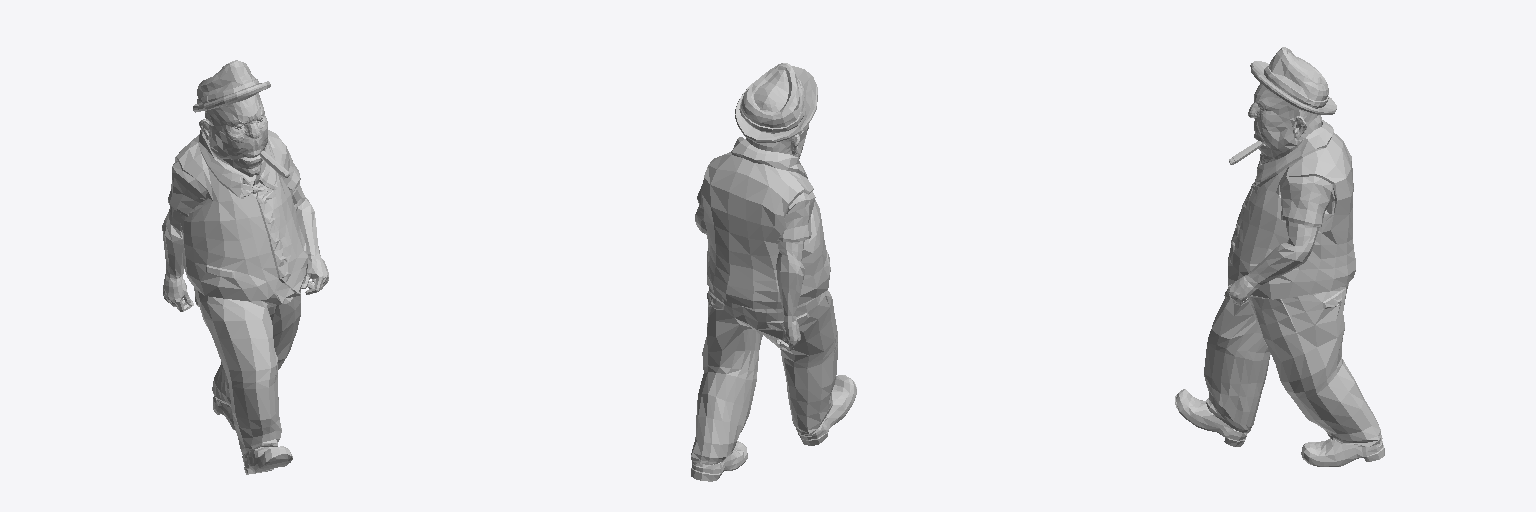
Rendered from walk0021.obj.
3 views of the same model, side by side, from view 1: azimuth 30°, elevation 25°; view 2: azimuth 150°, elevation 25°; view 3: azimuth 270°, elevation 25° (orthographic).
Visible parts, largest first — view 1: mixamorig:Jacket_Geo, mixamorig:Pants_Geo, mixamorig:Head_Geo, mixamorig:Arms_Geo, mixamorig:Hat_Geo, mixamorig:Shoes_Geo; view 2: mixamorig:Jacket_Geo, mixamorig:Pants_Geo, mixamorig:Hat_Geo, mixamorig:Arms_Geo, mixamorig:Shoes_Geo, mixamorig:Head_Geo; view 3: mixamorig:Pants_Geo, mixamorig:Jacket_Geo, mixamorig:Hat_Geo, mixamorig:Head_Geo, mixamorig:Shoes_Geo, mixamorig:Arms_Geo.
Boxes of the visible parts, <box> form: mixamorig:Jacket_Geo: <box>168,129,307,303</box>; mixamorig:Pants_Geo: <box>194,288,300,457</box>; mixamorig:Head_Geo: <box>199,93,267,185</box>; mixamorig:Arms_Geo: <box>162,184,328,311</box>; mixamorig:Hat_Geo: <box>193,60,270,112</box>; mixamorig:Shoes_Geo: <box>213,396,292,474</box>; mixamorig:Jacket_Geo: <box>697,137,830,309</box>; mixamorig:Pants_Geo: <box>691,287,837,464</box>; mixamorig:Hat_Geo: <box>735,63,817,142</box>; mixamorig:Arms_Geo: <box>695,205,804,350</box>; mixamorig:Shoes_Geo: <box>691,375,856,481</box>; mixamorig:Head_Geo: <box>746,124,808,158</box>; mixamorig:Pants_Geo: <box>1204,283,1382,446</box>; mixamorig:Jacket_Geo: <box>1228,120,1355,299</box>; mixamorig:Hat_Geo: <box>1250,47,1336,114</box>; mixamorig:Head_Geo: <box>1248,83,1321,163</box>; mixamorig:Shoes_Geo: <box>1175,389,1384,466</box>; mixamorig:Arms_Geo: <box>1224,221,1348,305</box>.
Size of the model in its own units: 0.6575 by 1.96 by 0.94.